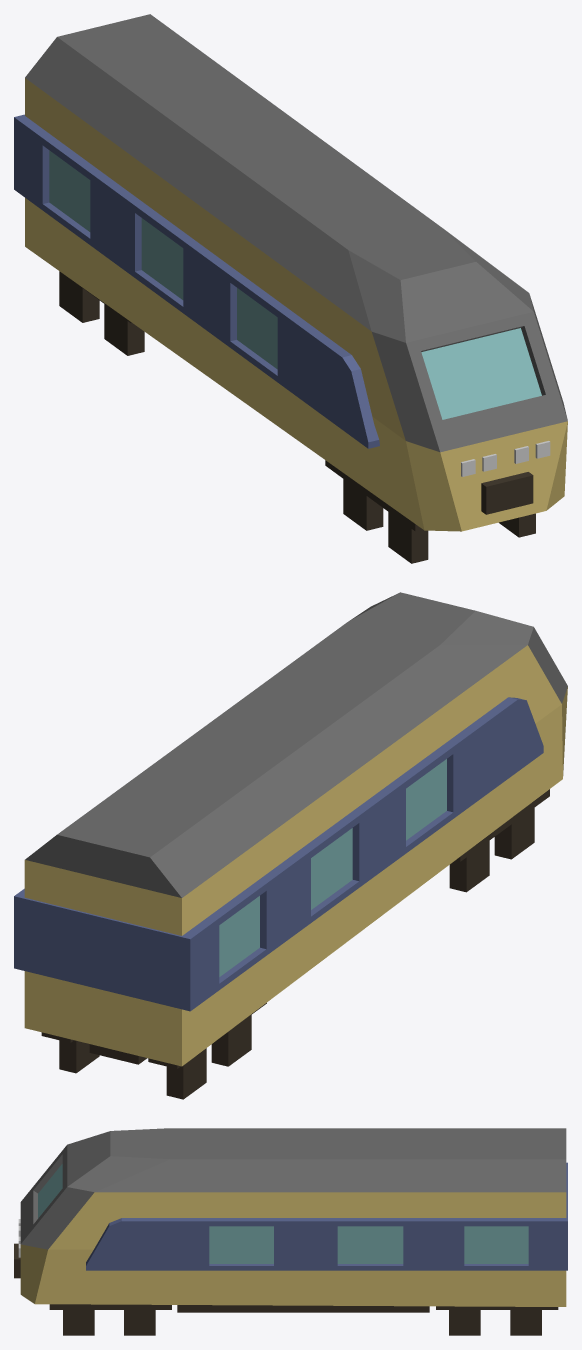
The model's file is Locomotief.fbx.
3 views of the same model, one above another, from view 1: azimuth 30°, elevation 25°; view 2: azimuth 150°, elevation 25°; view 3: azimuth 270°, elevation 25° (orthographic). The views are drawn at different scales.
Visible parts, largest first — view 1: pCube35, pCube36, pCube52, pCube48, pCube40, pCube47, pCube41, pCube44; view 2: pCube35, pCube36, pCube41, pCube47, pCube40, pCube48, pCube37, pCube44; view 3: pCube35, pCube36, pCube49, pCube37, pCube38, pCube45, pCube46, pCube43, pCube39.
Part boxes in pixels (x1,y1,x2,y2): pCube35: (25, 14, 567, 531); pCube36: (14, 114, 379, 448); pCube52: (481, 472, 533, 514); pCube48: (388, 512, 428, 563); pCube40: (104, 304, 144, 355); pCube47: (343, 479, 383, 530); pCube41: (59, 271, 99, 322); pCube44: (325, 460, 422, 531); pCube35: (24, 592, 567, 1066); pCube36: (14, 697, 543, 1011); pCube41: (166, 1048, 206, 1099); pCube47: (449, 841, 489, 892); pCube40: (211, 1015, 251, 1066); pCube48: (494, 808, 534, 859); pCube37: (59, 1040, 99, 1073); pCube44: (455, 789, 549, 861); pCube35: (20, 1128, 566, 1306); pCube36: (86, 1162, 567, 1270); pCube49: (177, 1305, 429, 1312); pCube37: (510, 1310, 541, 1335); pCube38: (449, 1310, 480, 1335); pCube45: (124, 1310, 155, 1335); pCube46: (63, 1310, 94, 1335); pCube43: (49, 1304, 171, 1309); pCube39: (436, 1306, 558, 1309).
Size of the model in its own units: 6.61 by 9 by 26.36.
